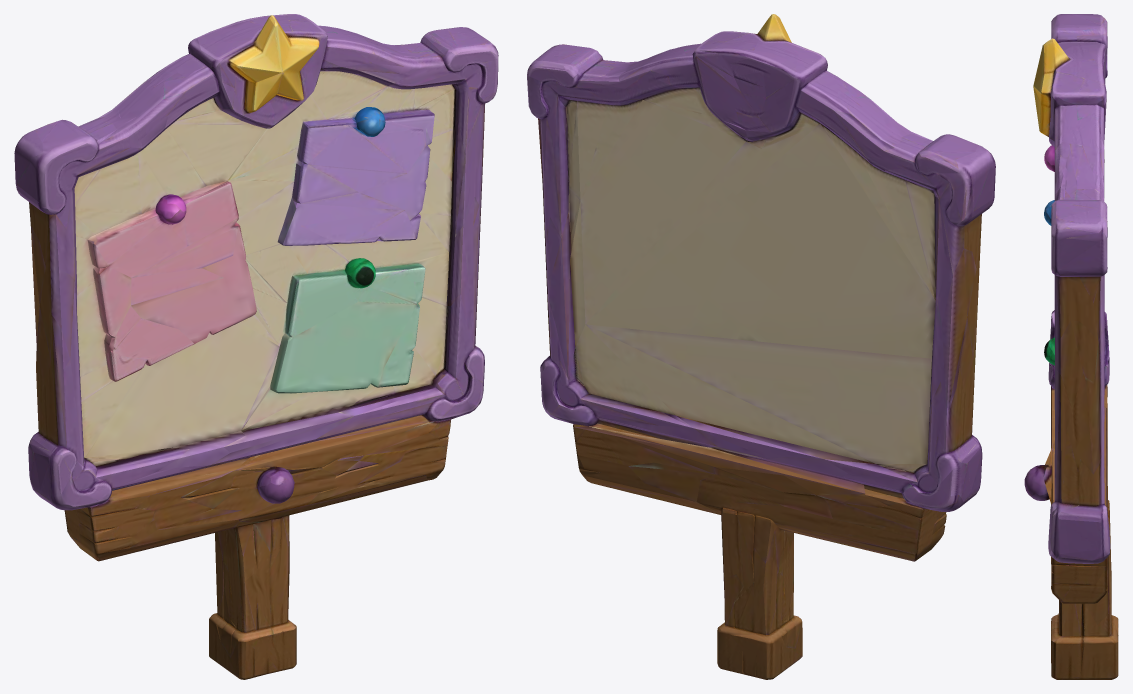
File: place_board_mobile.glb
3 views of the same model, side by side, from view 1: azimuth 30°, elevation 25°; view 2: azimuth 150°, elevation 25°; view 3: azimuth 270°, elevation 25° (orthographic). The views are drawn at different scales.
Size of the model in its own units: 1.4 by 1.9 by 0.2573.
Materials: 1 (1 with a texture image).
